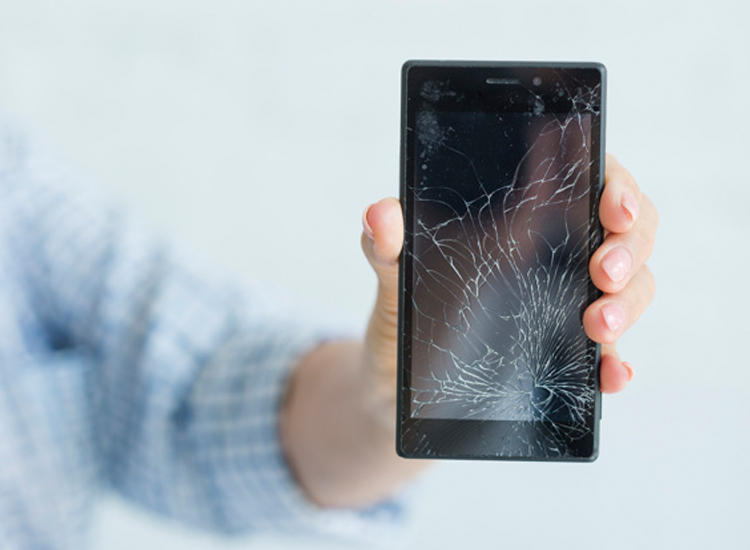Phone: (390, 56, 610, 469)
